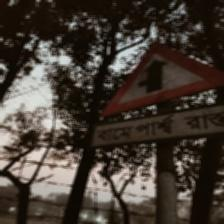Side-road-left: (92, 43, 224, 149)
